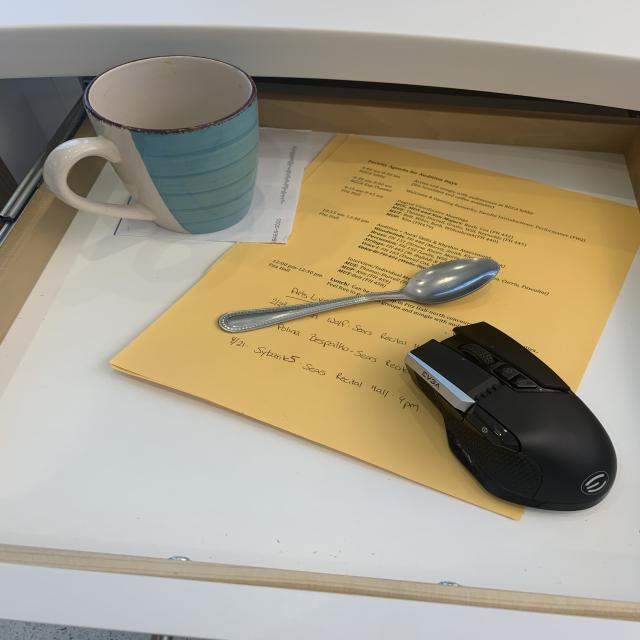Cup: (38, 52, 275, 244)
Mouse: (390, 319, 634, 517)
Spoon: (197, 255, 504, 312)
